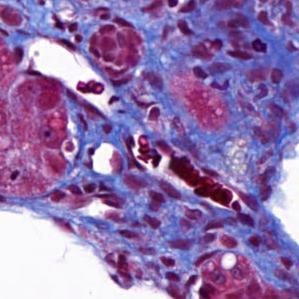inflammation: (190, 61, 235, 94), (63, 175, 114, 202), (228, 200, 259, 229)
